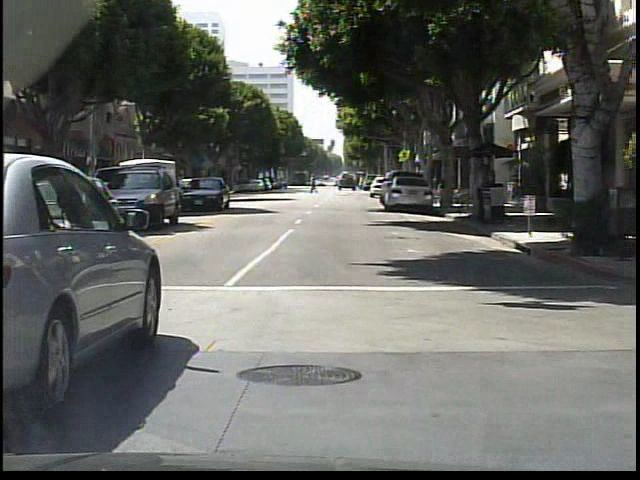person: (587, 166, 603, 237), (478, 163, 496, 222), (309, 176, 319, 196)
